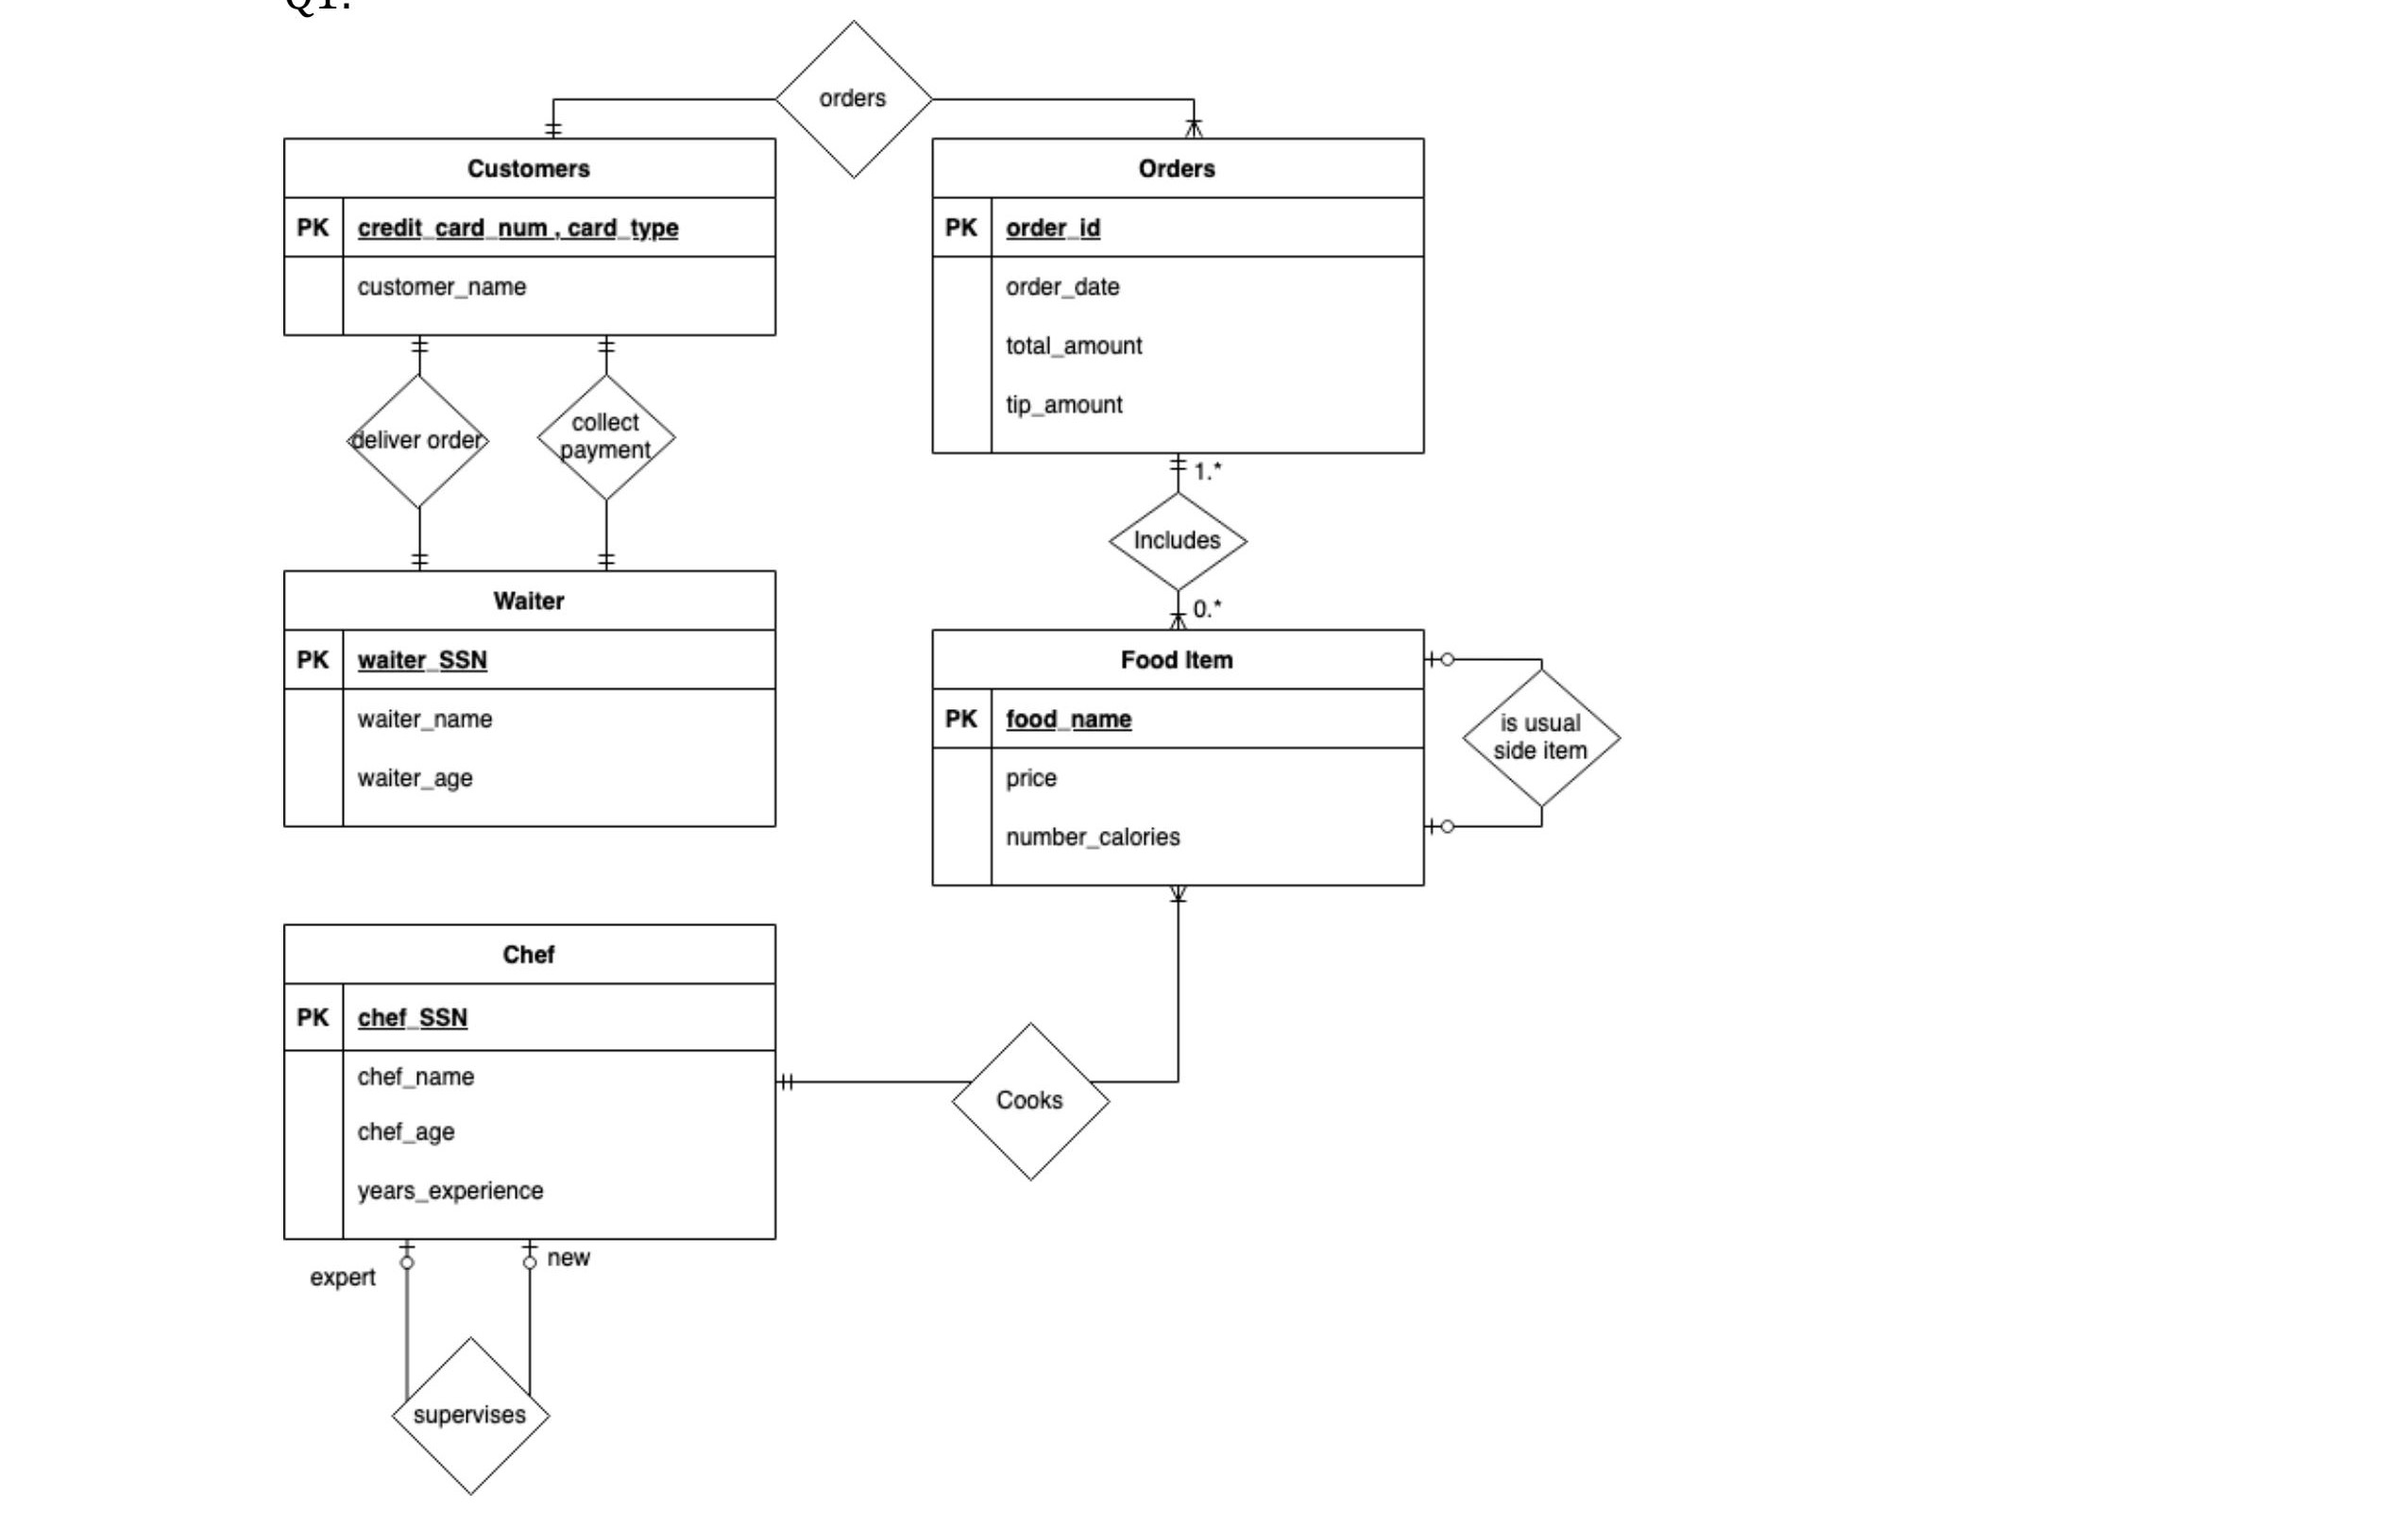Entity: (269, 919, 788, 1249), (926, 133, 1430, 462), (924, 621, 1430, 896), (277, 565, 781, 830), (277, 131, 788, 345)
Relationship: (952, 1022, 1113, 1181), (774, 17, 930, 181), (1463, 647, 1620, 806), (392, 1339, 551, 1496), (345, 378, 492, 509), (539, 375, 678, 501), (1108, 492, 1245, 588)
